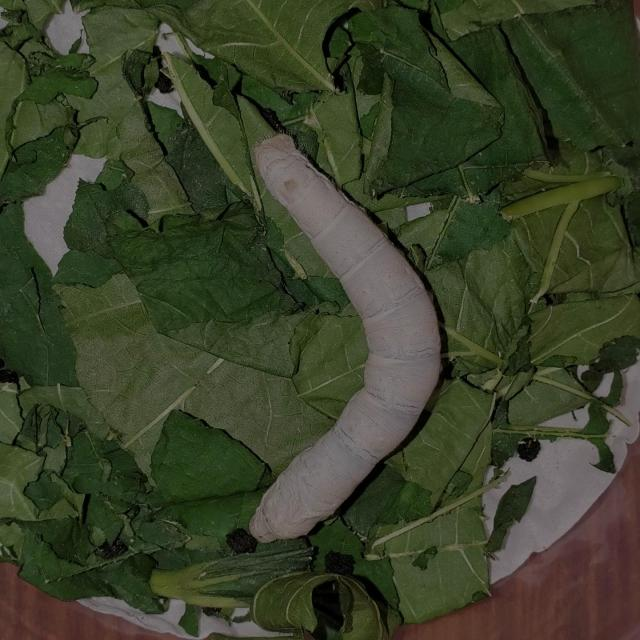Healthy: (183, 94, 451, 596)
